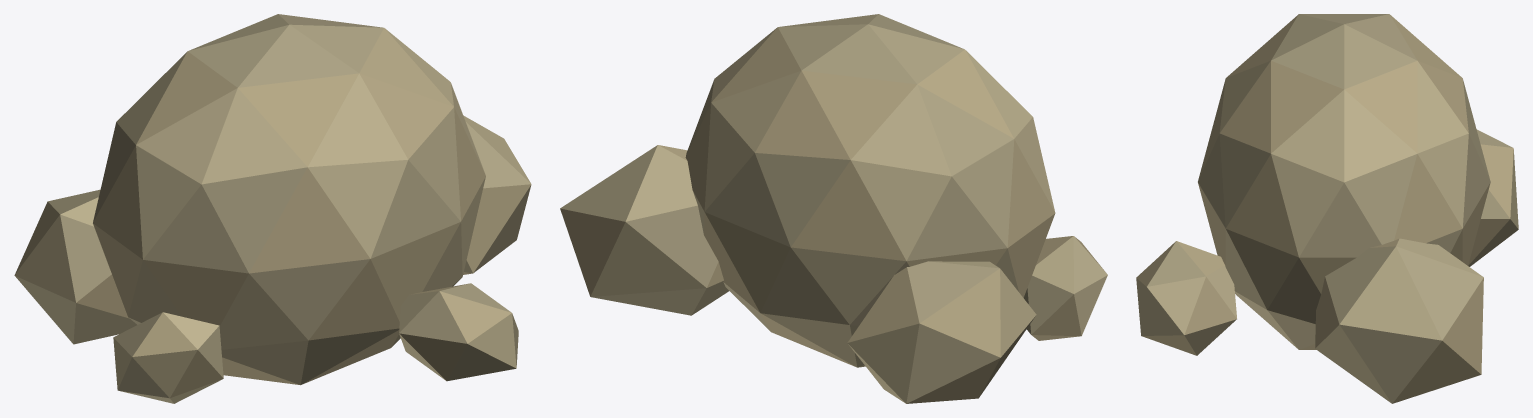
File: rock_cluster.glb
The picture shows the model from 3 angles, left to right: view 1: azimuth 30°, elevation 25°; view 2: azimuth 150°, elevation 25°; view 3: azimuth 270°, elevation 25°; orthographic projection. The views are drawn at different scales.
Visible parts, largest first — view 1: rock_cluster; view 2: rock_cluster; view 3: rock_cluster.
Part boxes in pixels (box(x1,y1,x2,y2)): rock_cluster: box(14, 14, 531, 403); rock_cluster: box(560, 14, 1107, 403); rock_cluster: box(1136, 14, 1518, 403).
Bounding box in the file's own units: 1.8 × 1.26 × 1.38.
